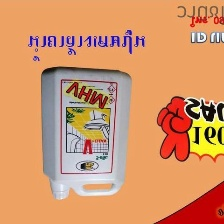cleaning_solution: (36, 62, 136, 202)
